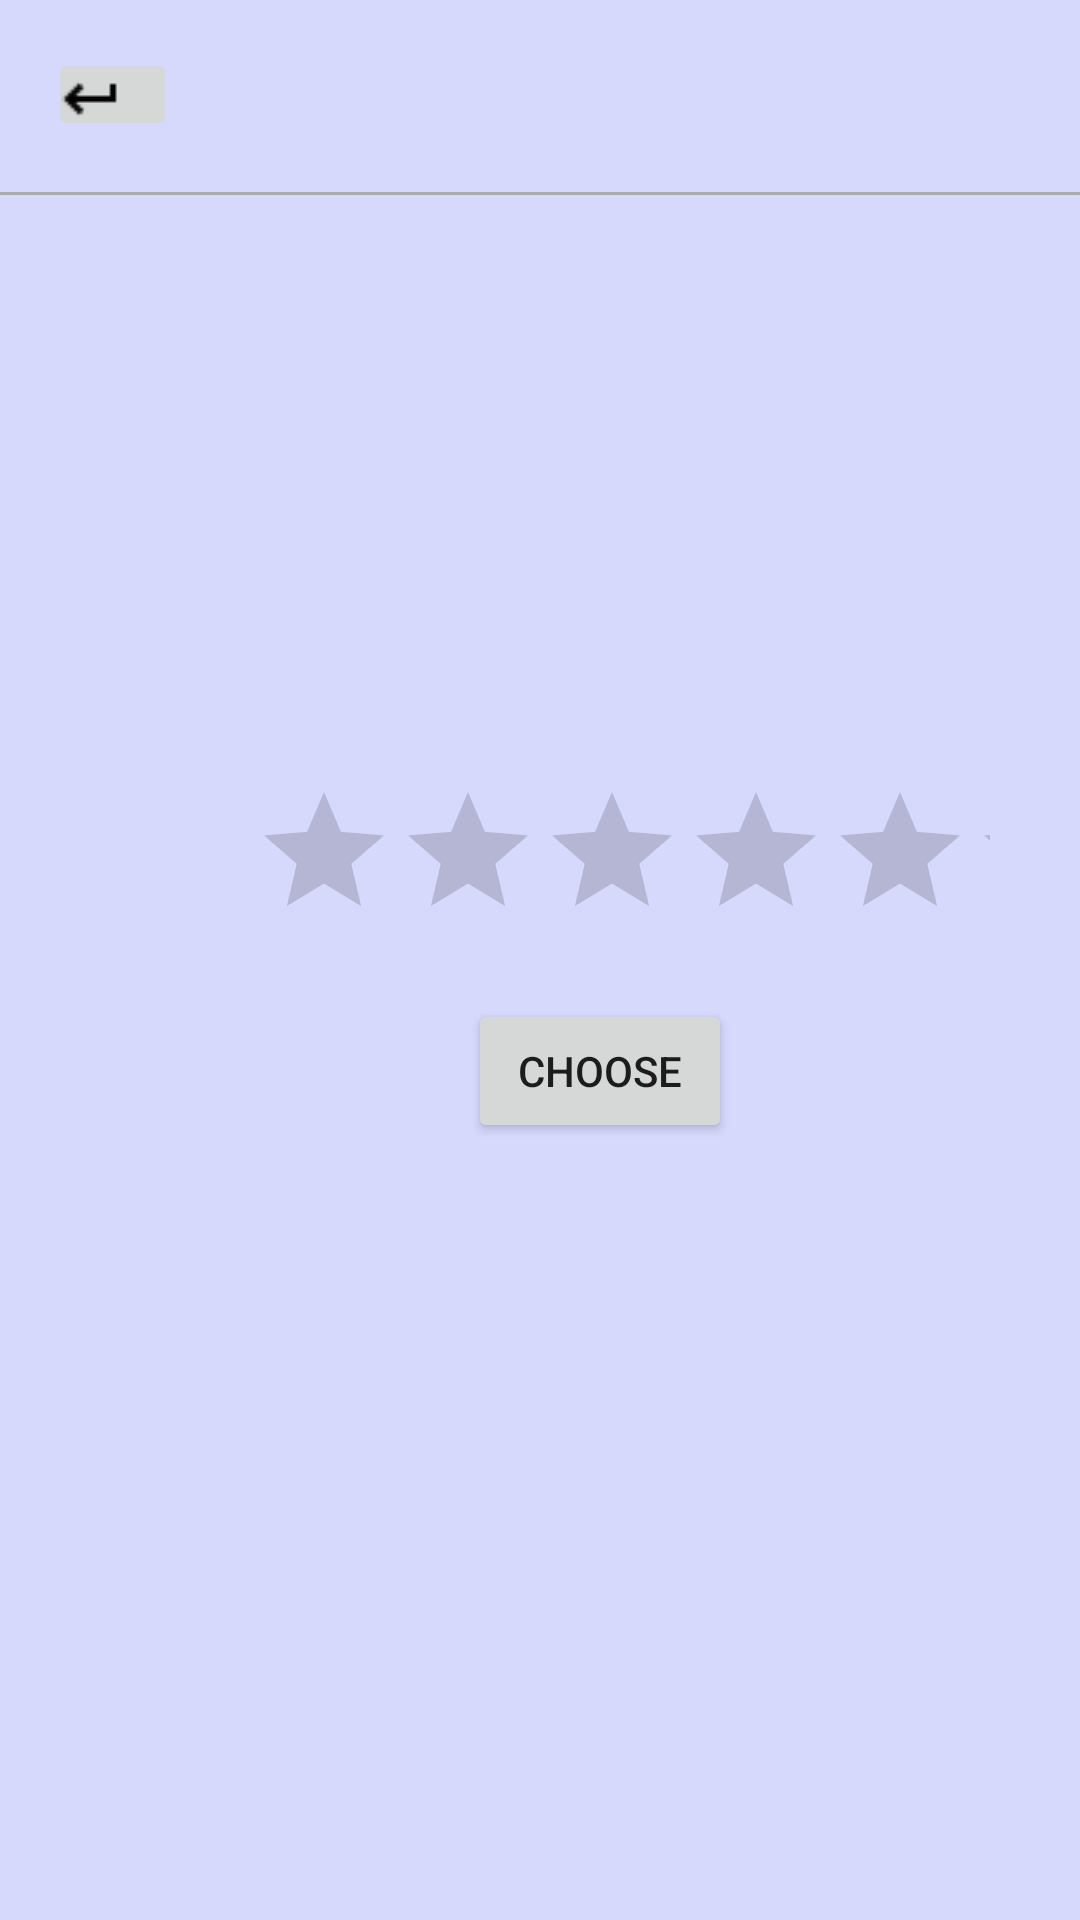

Point at icon controls on the screen. Image size 1080px x 1920px, points as (x=x, y=y).
keyboard enter return: (x=112, y=94)
